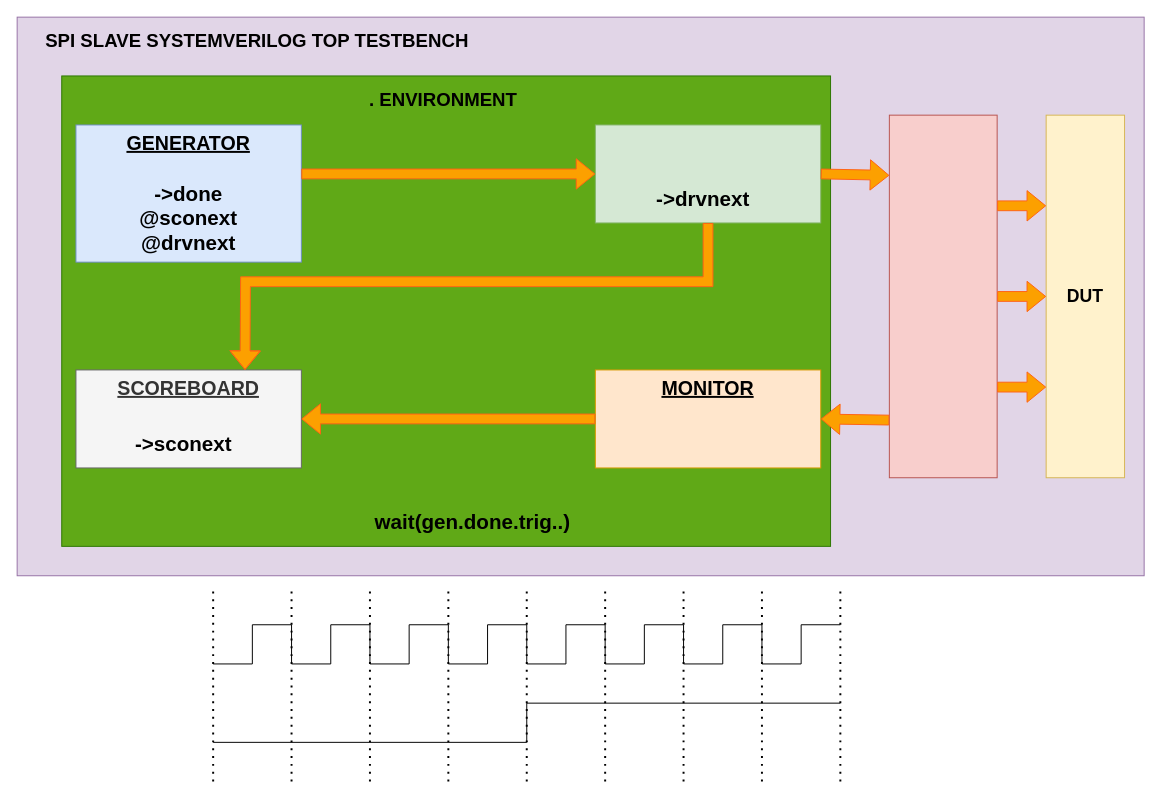
This 1161x801 diagram has some shape labels left out. Each missing label, with the box of its shape:
DRIVER: (594, 124, 821, 223)
INTERFACE: (888, 114, 997, 478)
